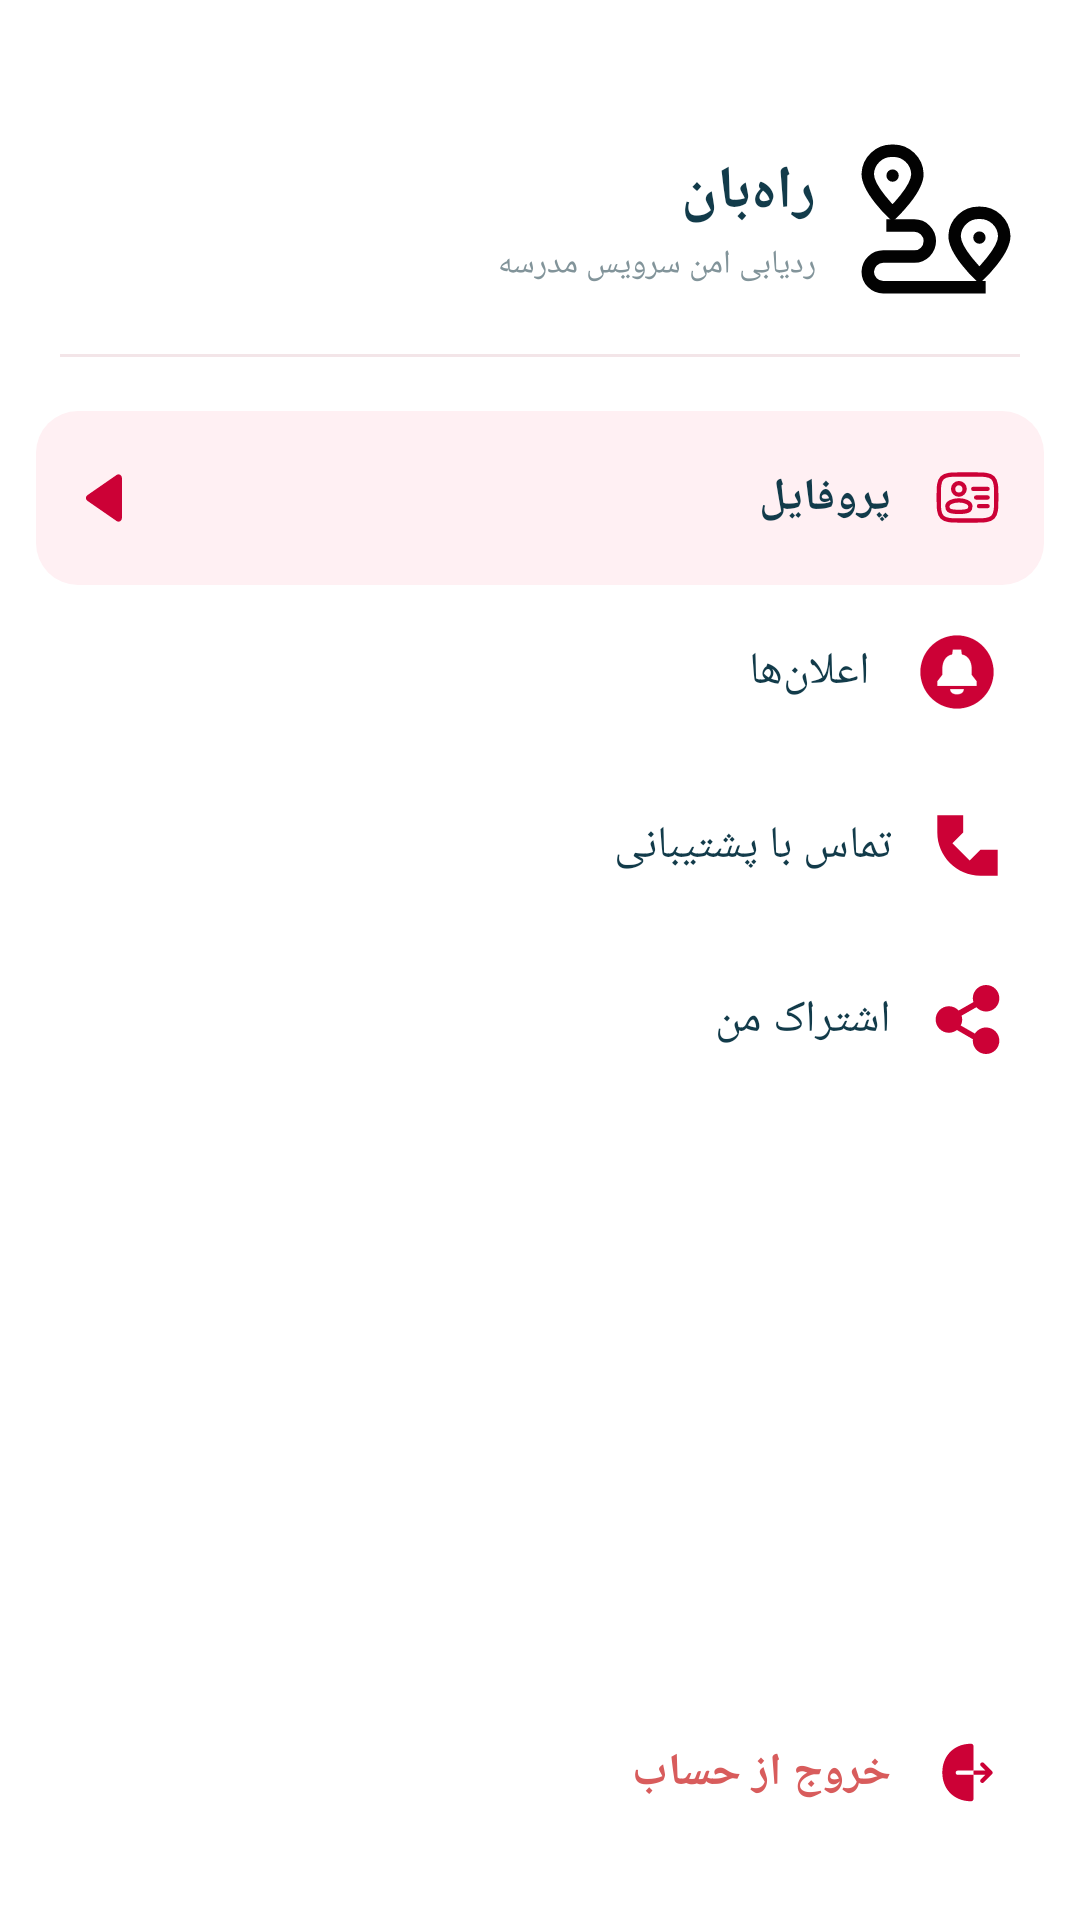

Icon bounding boxes for this 1080*1920 phone screenshot, format (x1, y1, x2, y2):
left arrow: (86, 474, 122, 522)
route: (861, 144, 1011, 294)
user id: (936, 472, 999, 523)
